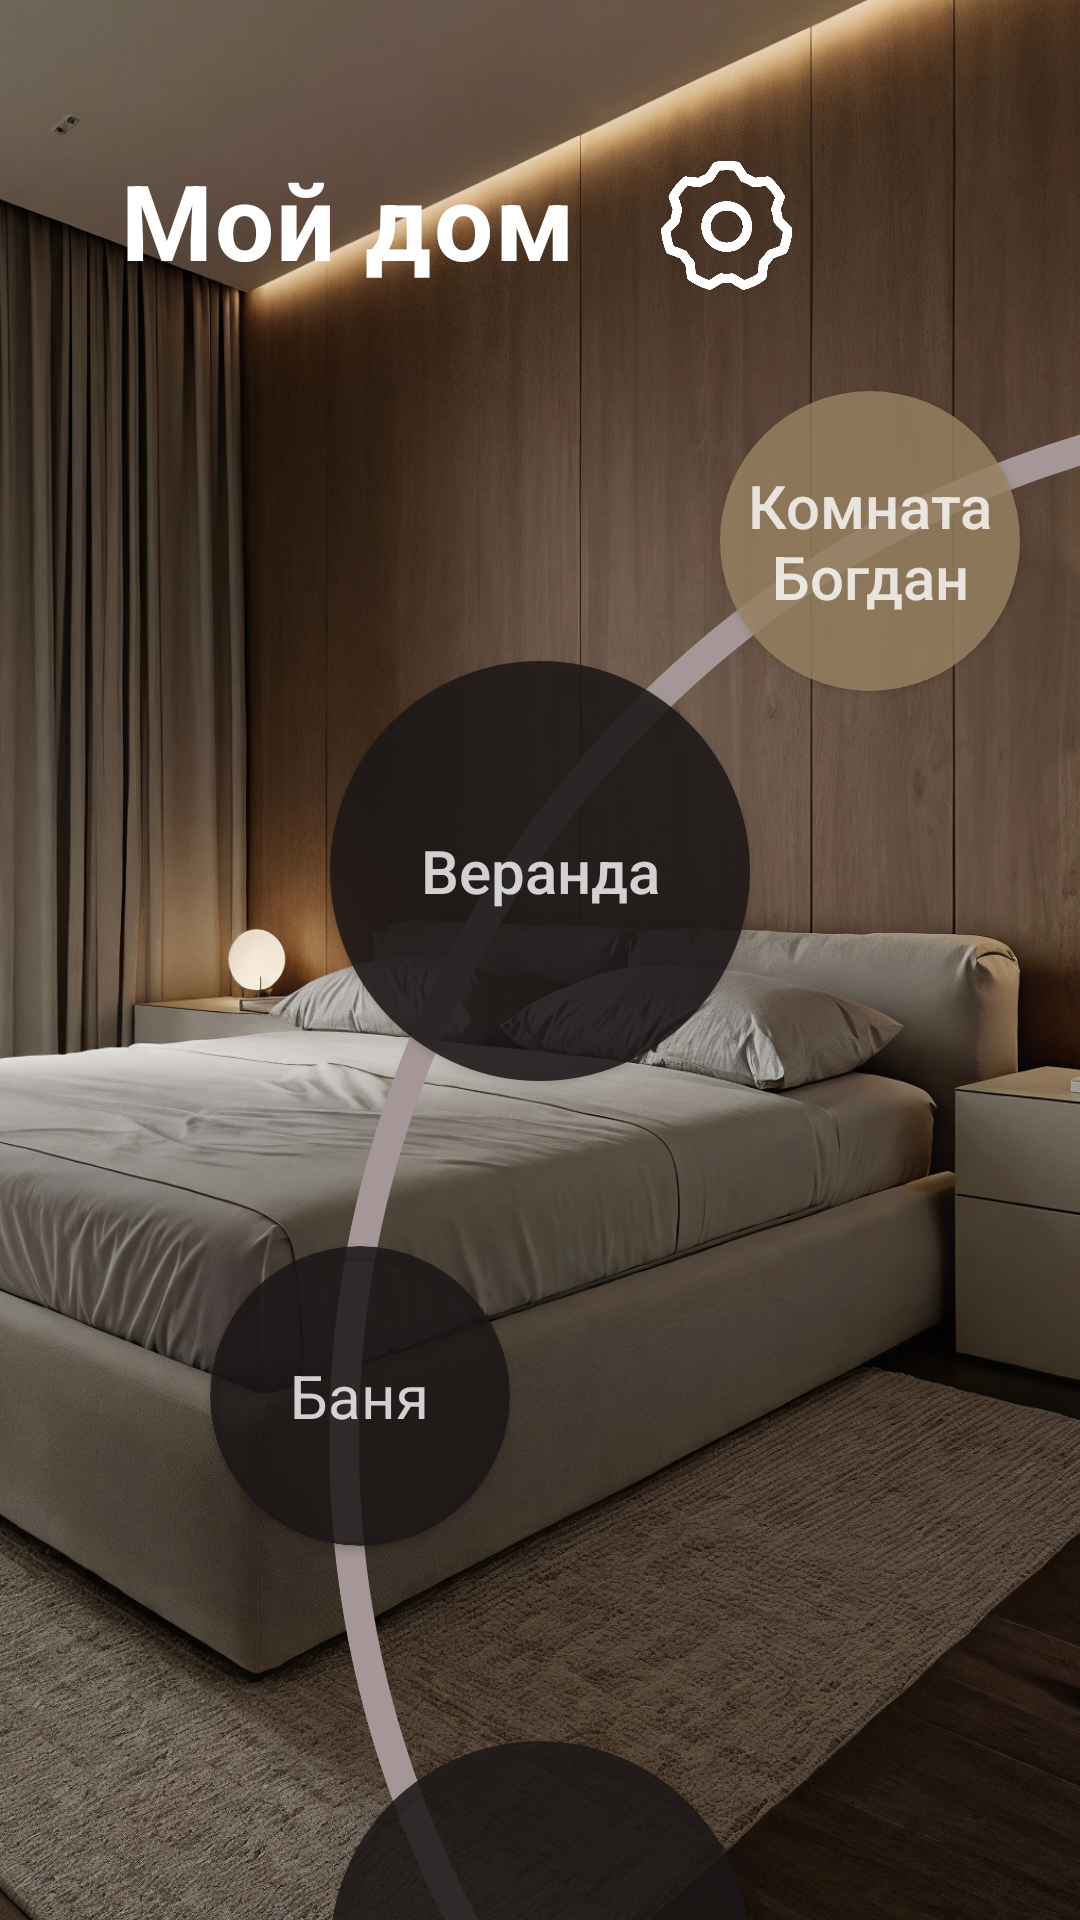

Screen size 1080*1920. Icon name, then its box in pixels as (x1, y1, x2, y2):
settings: (641, 153, 792, 290)
